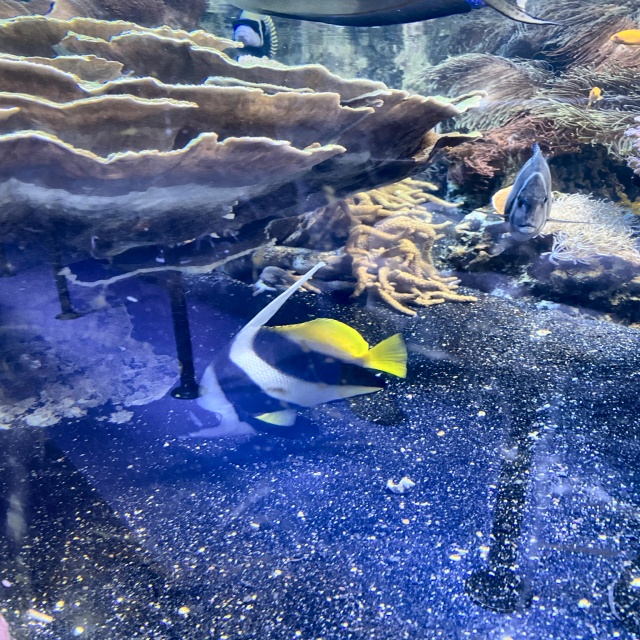fish: (180, 318, 408, 440), (500, 144, 555, 244), (234, 6, 279, 63), (612, 29, 639, 47), (587, 84, 604, 110)
